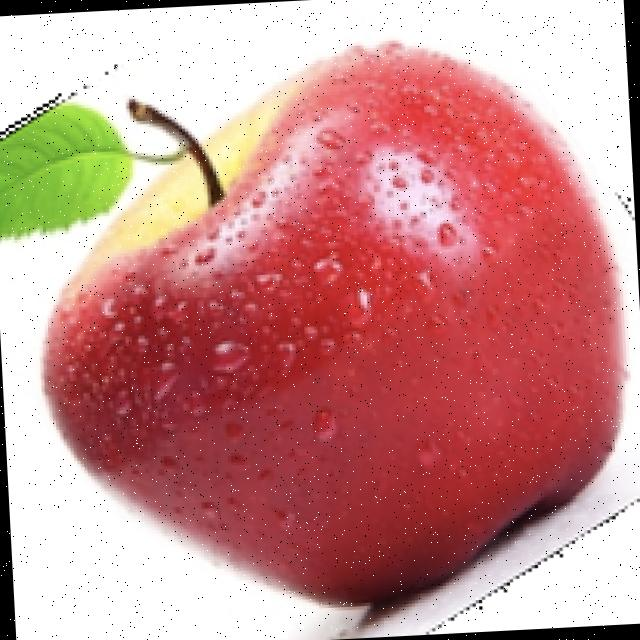apple: (0, 34, 640, 639)
